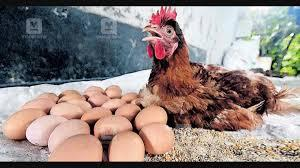egg: (49, 132, 105, 161), (3, 109, 46, 140), (27, 115, 68, 144), (110, 128, 144, 162), (48, 117, 90, 144), (141, 124, 176, 156), (135, 104, 167, 128), (94, 114, 133, 133), (51, 101, 85, 117), (103, 84, 125, 101), (101, 97, 124, 110), (59, 88, 81, 98)
